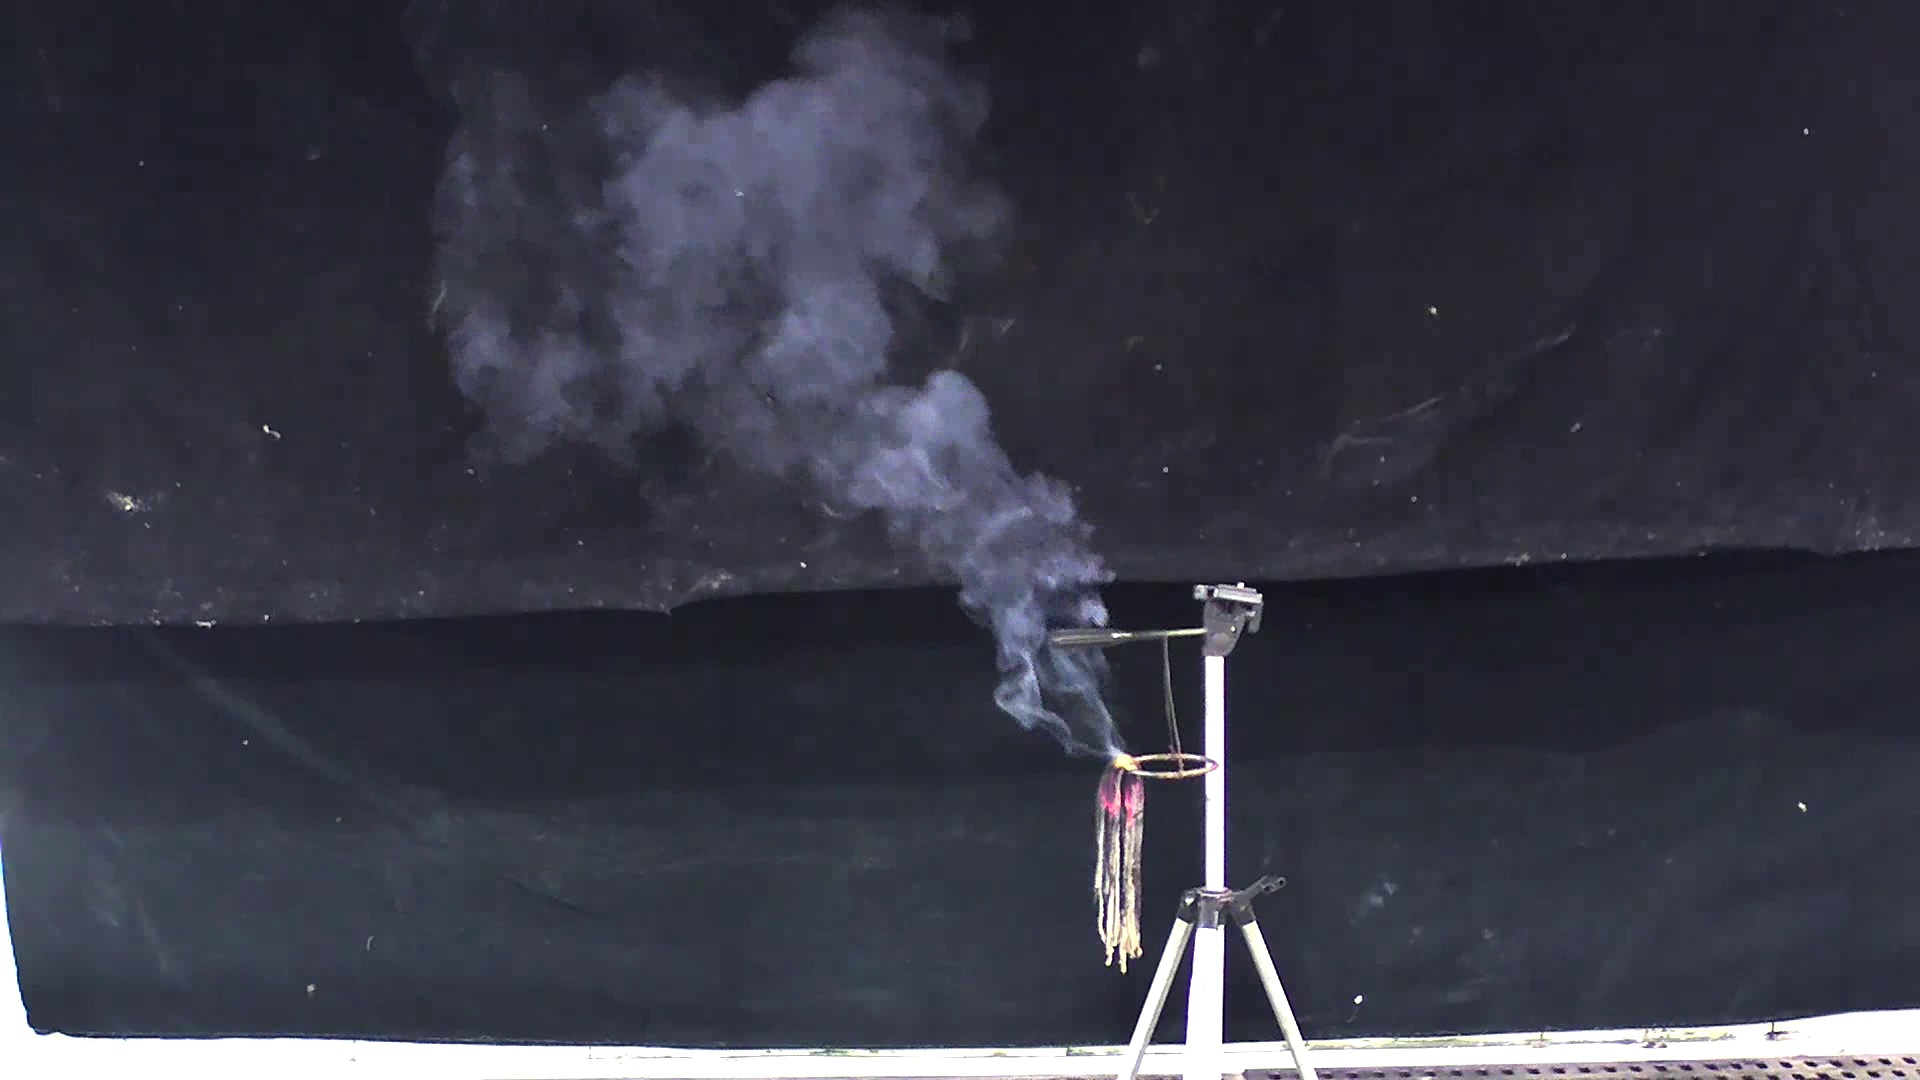smoke: (411, 3, 1121, 767)
